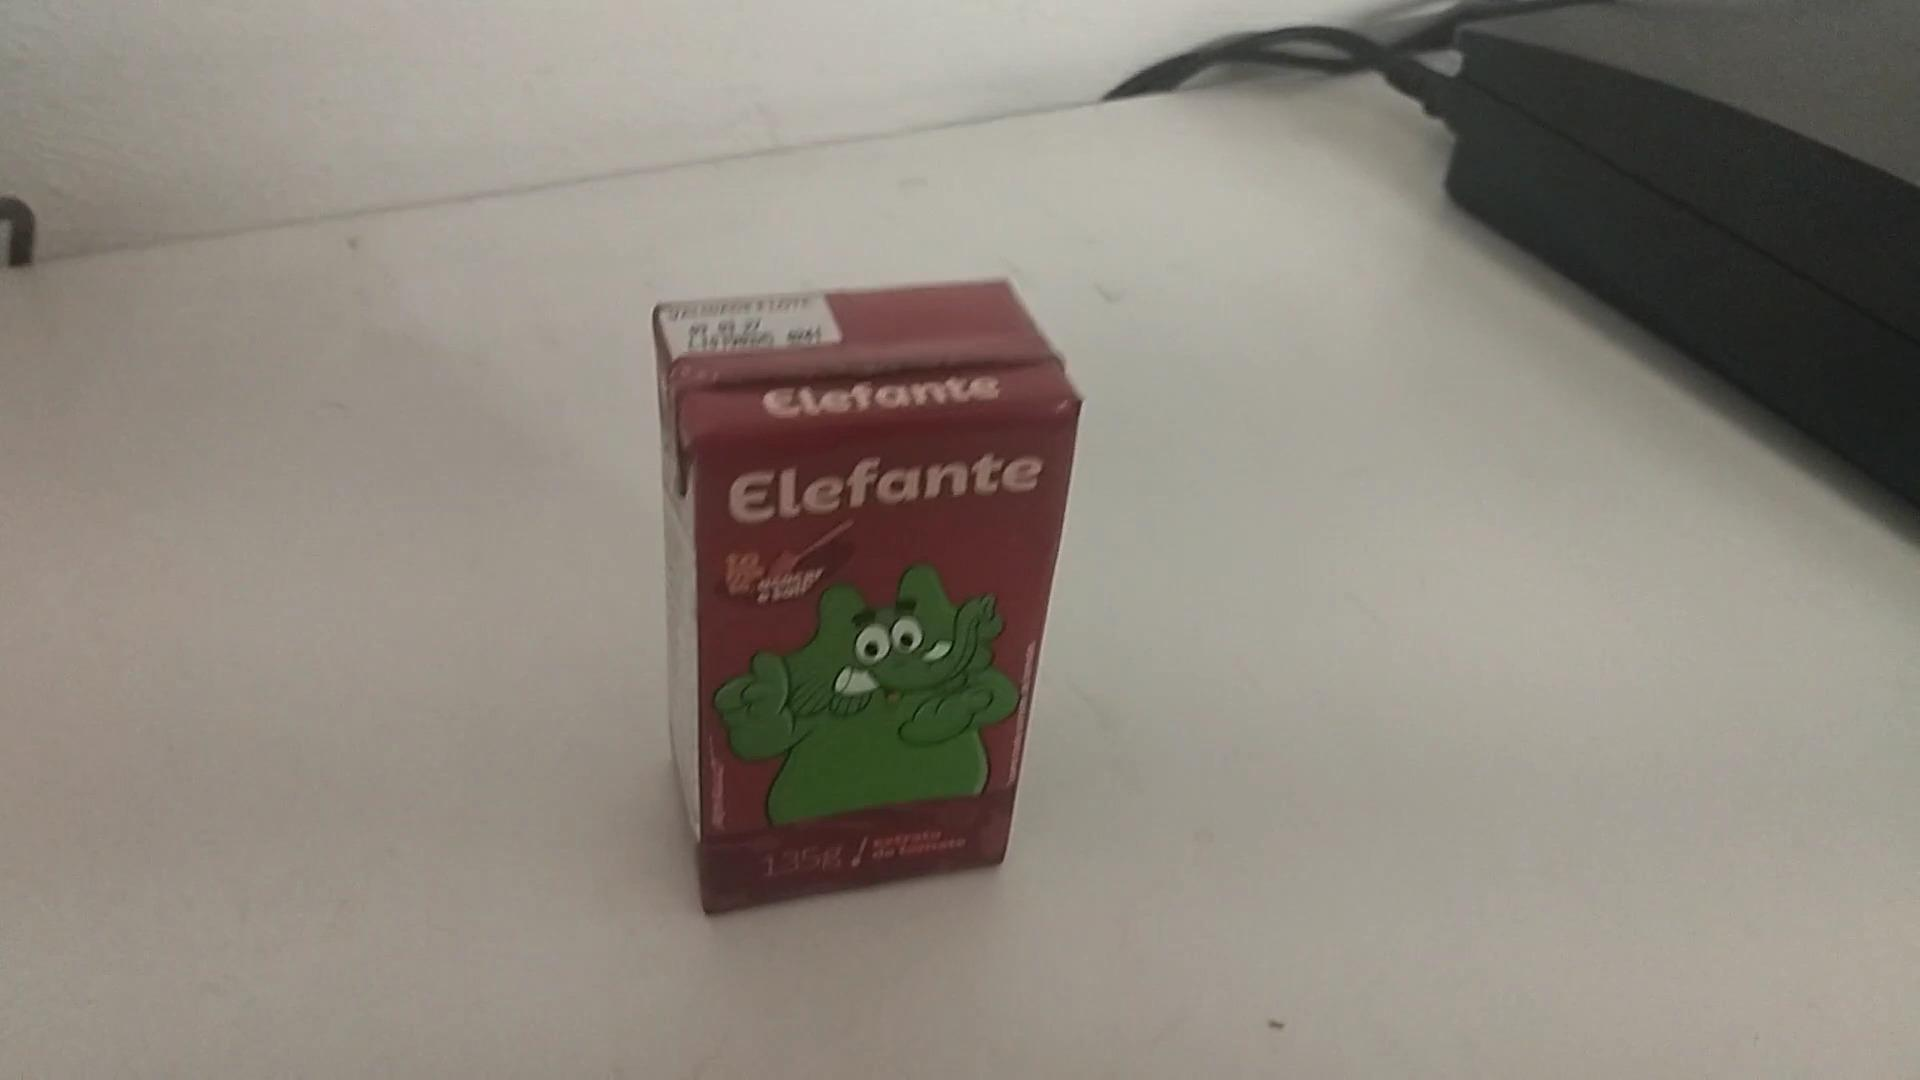tomate: (650, 260, 1098, 907)
